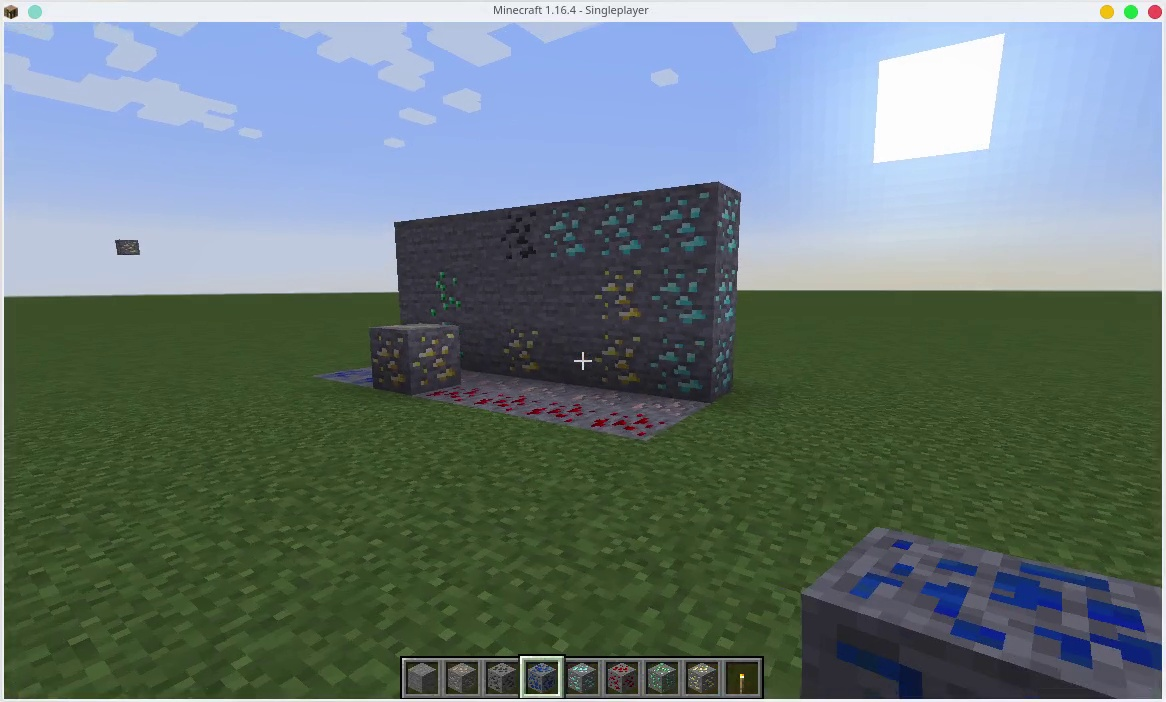gold: (372, 325, 463, 385), (589, 332, 651, 384), (496, 326, 554, 376), (592, 268, 645, 319), (684, 661, 722, 694)
